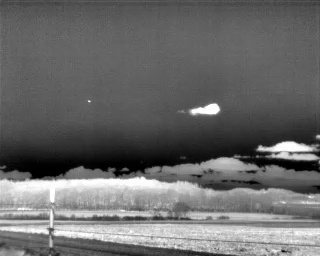DRONE: (85, 97, 94, 106)
